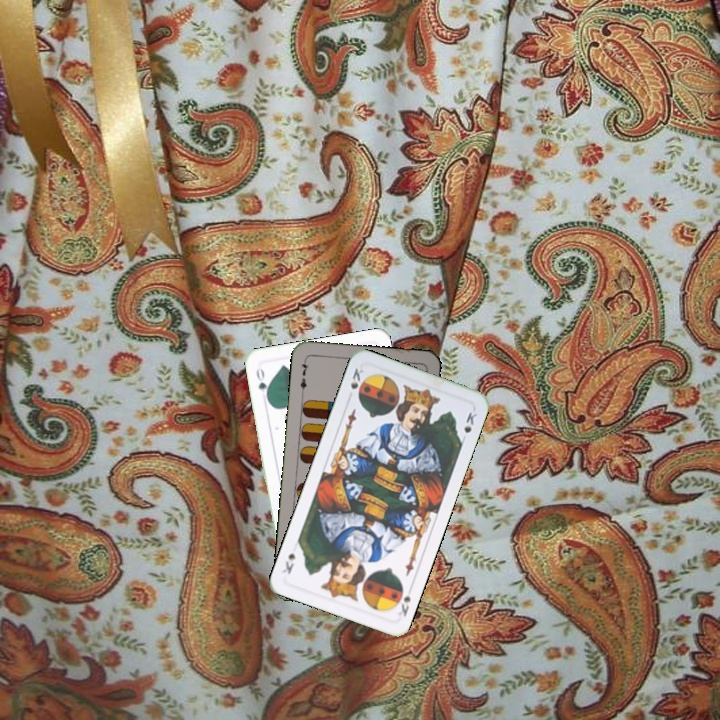E7: (296, 356, 311, 396)
GO: (252, 364, 271, 403)
SK: (346, 364, 366, 392), (394, 591, 413, 619)
